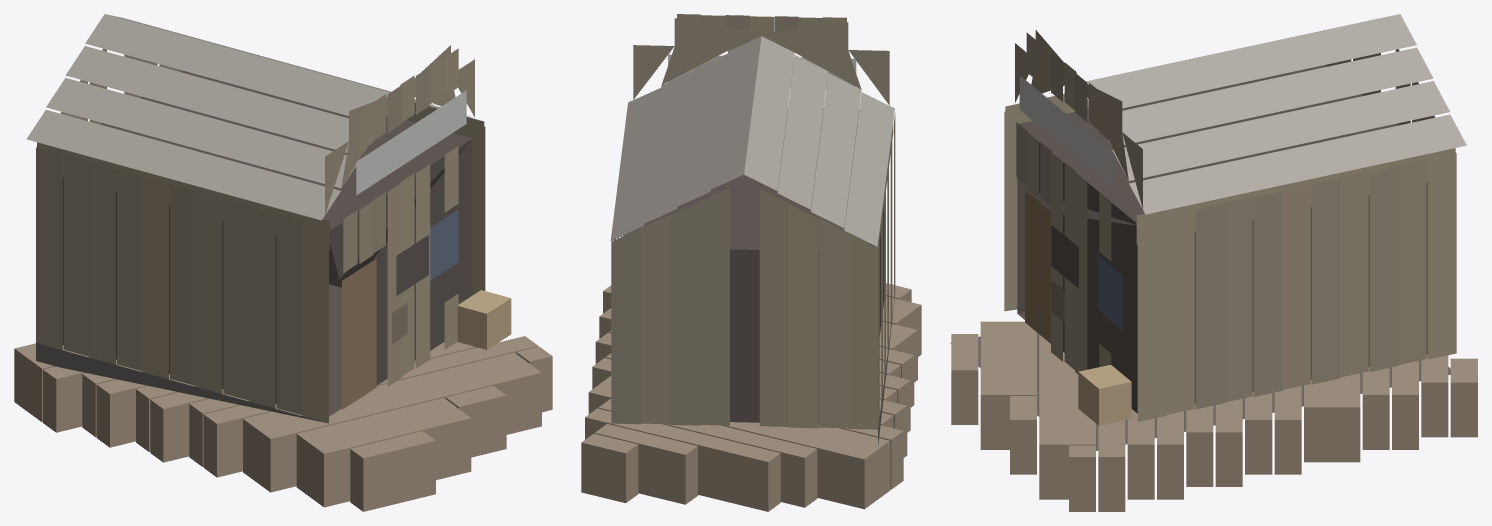
Rendered from house_7.lod.glb.
3 views of the same model, side by side, from view 1: azimuth 30°, elevation 25°; view 2: azimuth 150°, elevation 25°; view 3: azimuth 270°, elevation 25° (orthographic). The views are drawn at different scales.
Visible parts, largest first — view 1: house_7; view 2: house_7; view 3: house_7.
Part boxes in pixels (bbox=[...]): house_7: bbox=[14, 14, 552, 511]; house_7: bbox=[581, 14, 921, 511]; house_7: bbox=[950, 14, 1477, 511].
Bounding box in the file's own units: 7.98 × 7 × 8.98.
